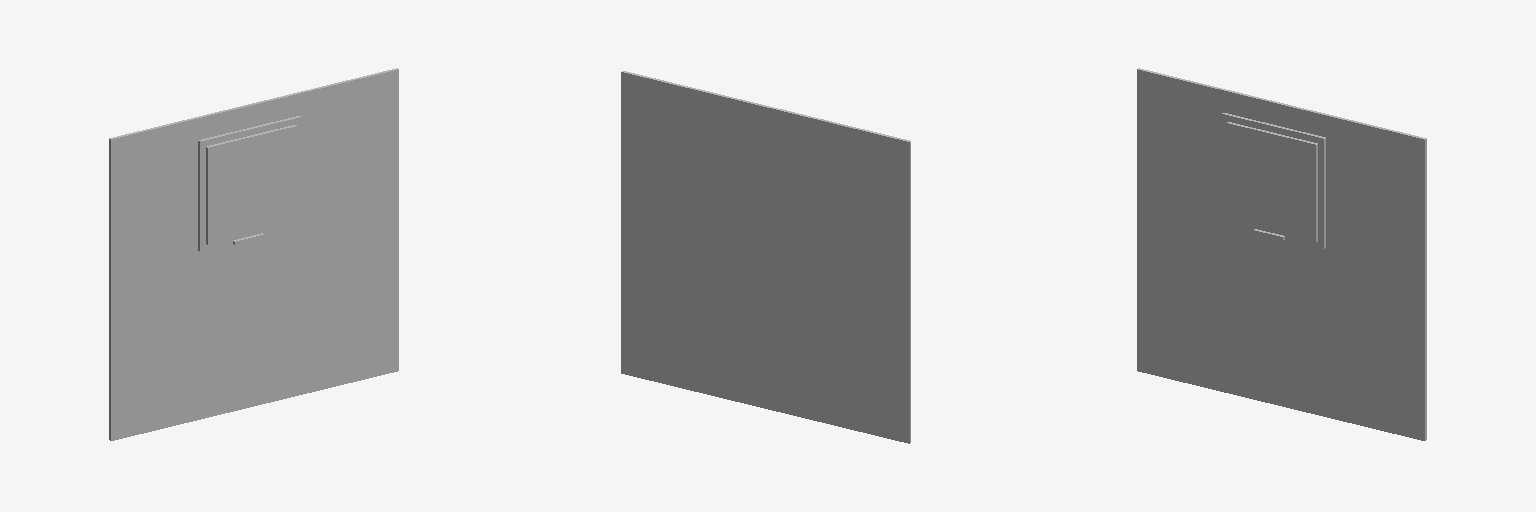
File: tile pared pasillo cuadro.obj
3 renders of one model, left to right at view 1: azimuth 30°, elevation 25°; view 2: azimuth 150°, elevation 25°; view 3: azimuth 330°, elevation 25°, orthographic.
Parts seen in each view (by area): view 1: object 1; view 2: object 1; view 3: object 1.
Boxes of the visible parts, x1=… form: object 1: x1=109, y1=68, x2=398, y2=440; object 1: x1=621, y1=71, x2=910, y2=443; object 1: x1=1137, y1=68, x2=1426, y2=440.
Bounding box in the file's own units: 9.6 × 9.6 × 0.3.